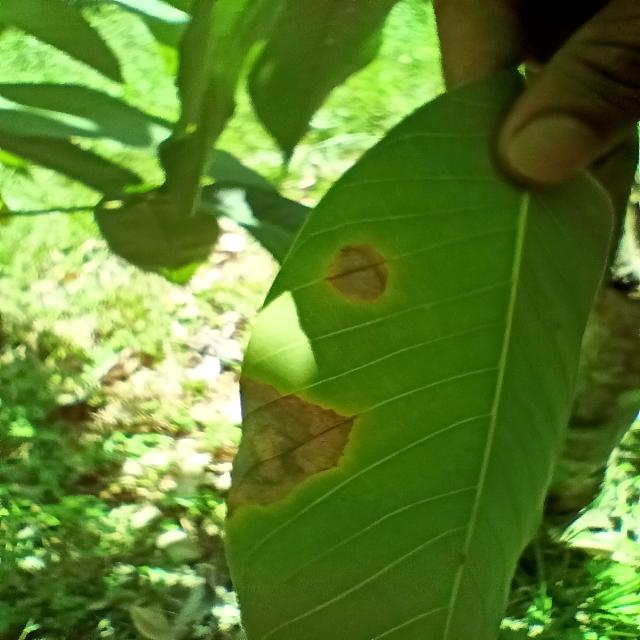Leaf-Blight: (224, 377, 358, 517), (327, 244, 389, 302)
